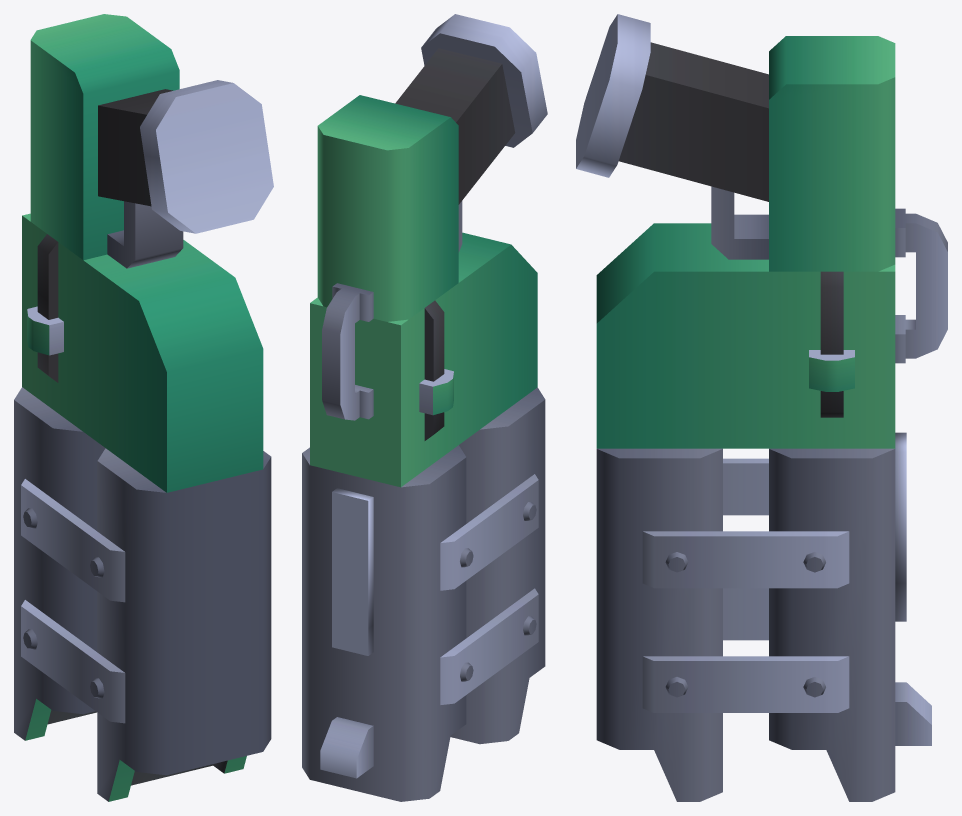
Rendered from kb-blaster-q-lod1.glb.
3 renders of one model, left to right at view 1: azimuth 30°, elevation 25°; view 2: azimuth 150°, elevation 25°; view 3: azimuth 270°, elevation 25°, orthographic. The views are drawn at different scales.
Visible parts, largest first — view 1: WeaponMesh_kb-blaster-q_blaster-q; view 2: WeaponMesh_kb-blaster-q_blaster-q; view 3: WeaponMesh_kb-blaster-q_blaster-q.
Boxes of the visible parts, x1,y1,x2,y2 form: WeaponMesh_kb-blaster-q_blaster-q: (14, 14, 273, 801); WeaponMesh_kb-blaster-q_blaster-q: (302, 14, 547, 801); WeaponMesh_kb-blaster-q_blaster-q: (576, 14, 947, 801).
Size of the model in its own units: 0.3469 by 1.45 by 0.661.
Materials: 1 (1 with a texture image).
